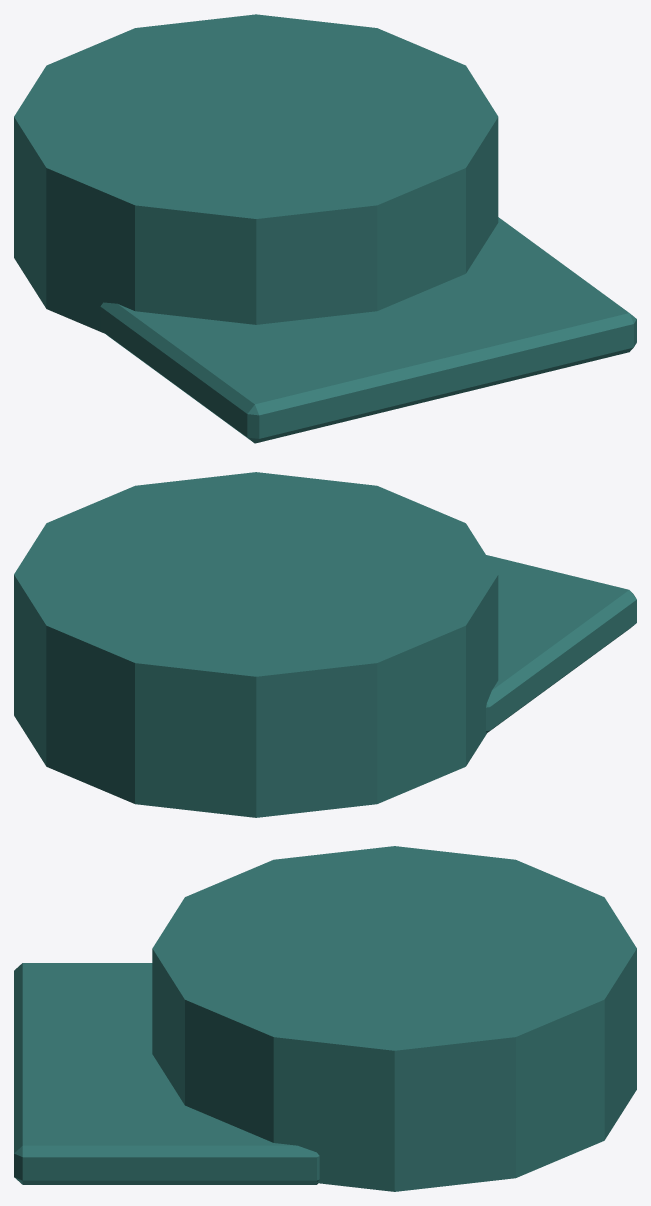
File: Modular_Cap.fbx
3 renders of one model, top to bottom at view 1: azimuth 30°, elevation 25°; view 2: azimuth 150°, elevation 25°; view 3: azimuth 270°, elevation 25°, orthographic.
Visible parts, largest first — view 1: CapCrown.005, CapVisor.005; view 2: CapCrown.005, CapVisor.005; view 3: CapCrown.005, CapVisor.005.
Boxes of the visible parts, box(x1,y1,x2,y2) form: CapCrown.005: box(14, 14, 498, 333); CapVisor.005: box(100, 217, 636, 443); CapCrown.005: box(14, 472, 498, 817); CapVisor.005: box(486, 555, 636, 732); CapCrown.005: box(152, 846, 636, 1191); CapVisor.005: box(14, 963, 319, 1184).
Bounding box in the file's own units: 0.28 × 0.0925 × 0.36.
